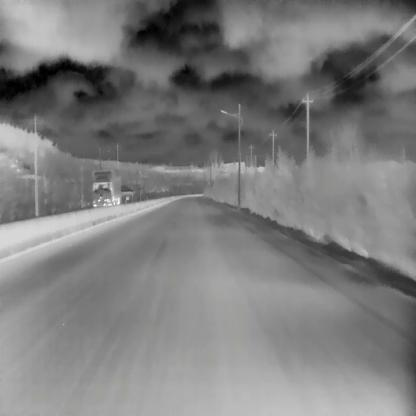truck: (90, 165, 121, 206)
